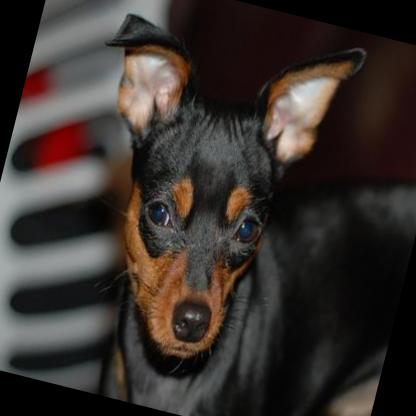miniature_pinscher: (20, 0, 416, 416)
